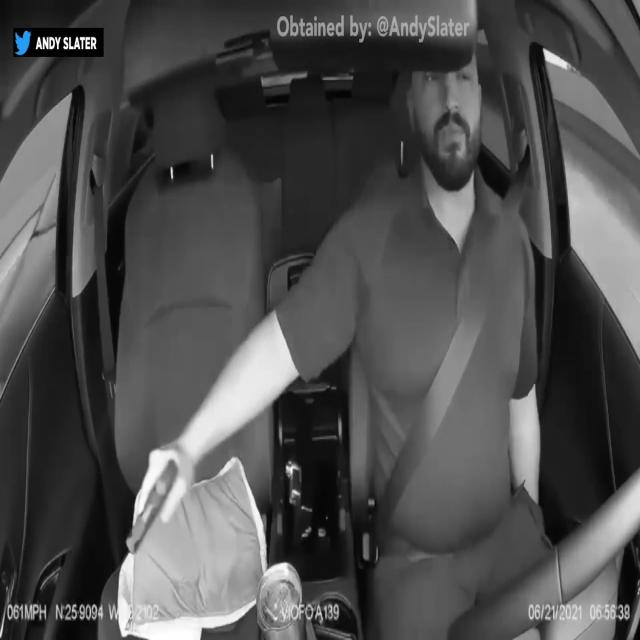senjata_api: (126, 454, 179, 555)
